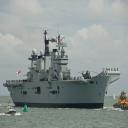Portanaves: (3, 26, 122, 112)
